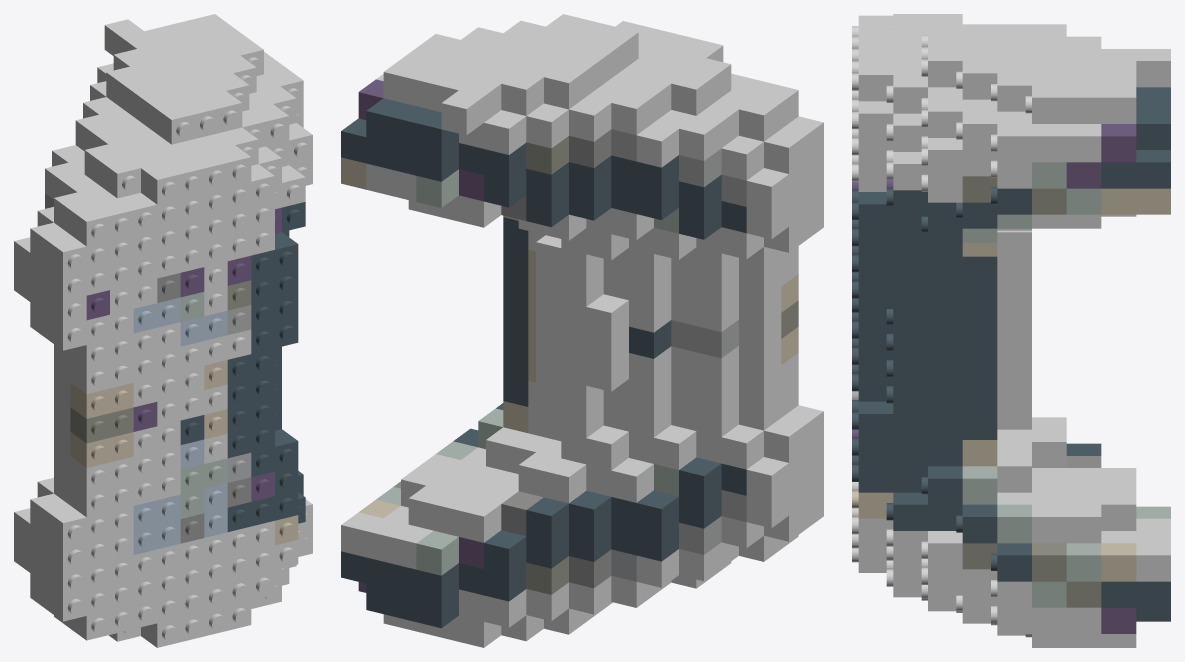
Rendered from full.glb.
The picture shows the model from 3 angles, left to right: view 1: azimuth 30°, elevation 25°; view 2: azimuth 150°, elevation 25°; view 3: azimuth 270°, elevation 25°; orthographic projection. The views are drawn at different scales.
Visible parts, largest first — view 1: world; view 2: world; view 3: world.
Part boxes in pixels (x1,y1,x2,y2): world: (14, 14, 312, 647); world: (341, 14, 823, 647); world: (852, 14, 1170, 647).
Size of the model in its own units: 104 by 168 by 88.2.
